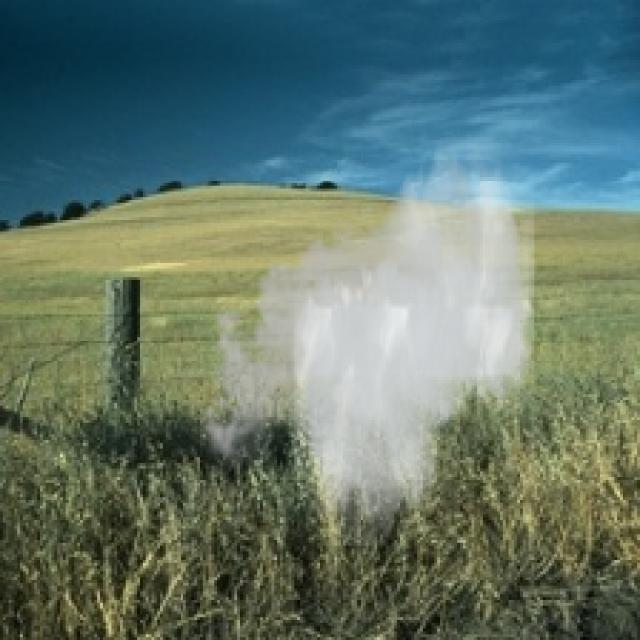Smoke: (192, 137, 534, 546)
